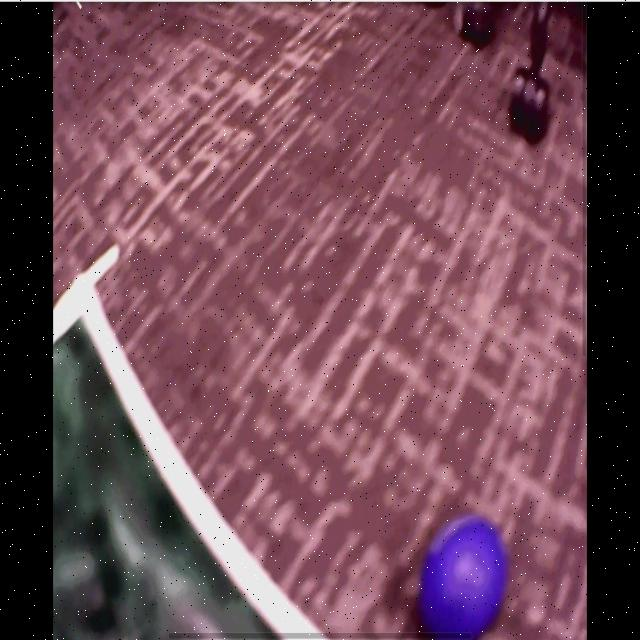ball: (421, 519, 504, 640)
